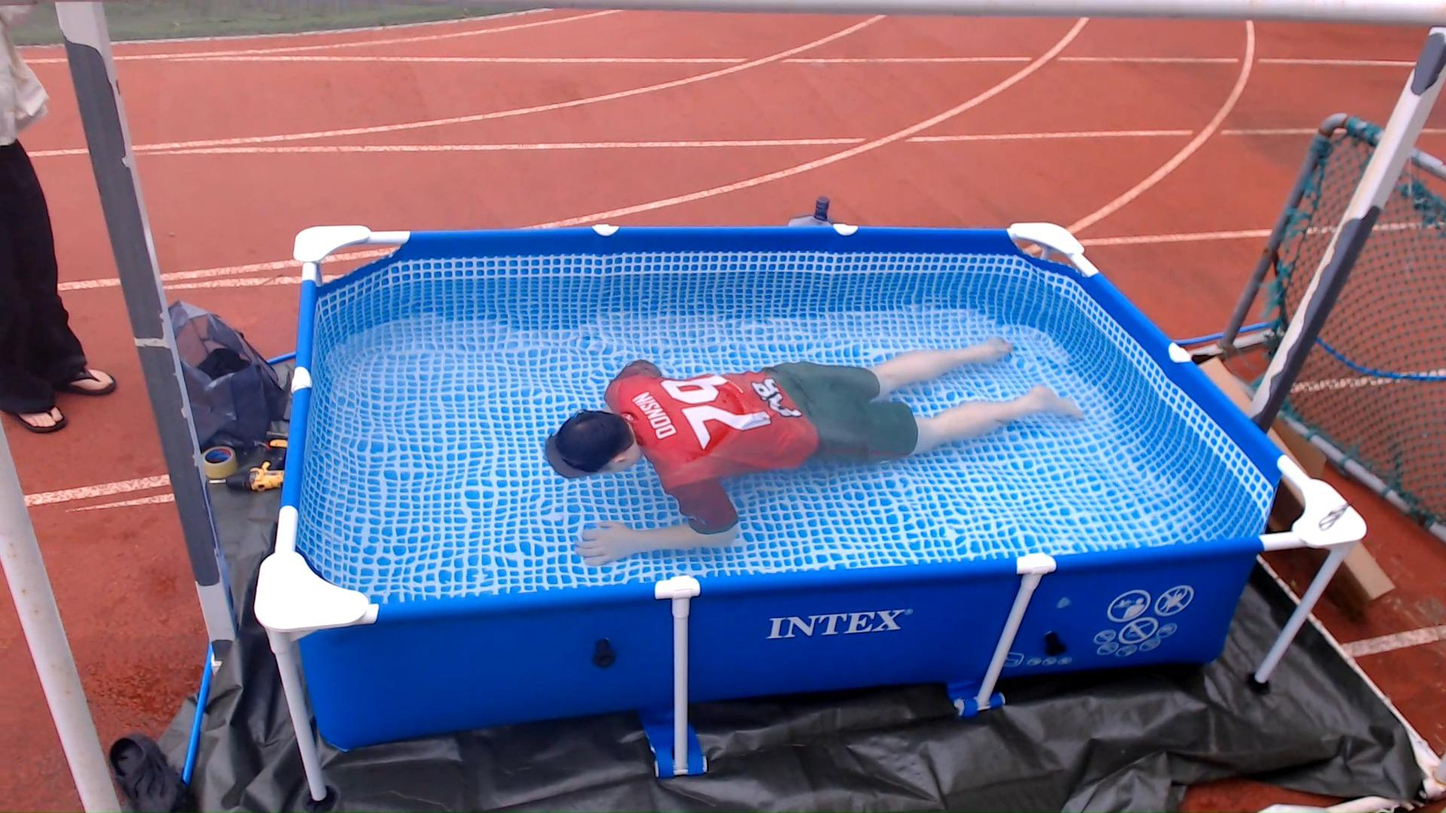Drowning: (408, 322, 1113, 537)
